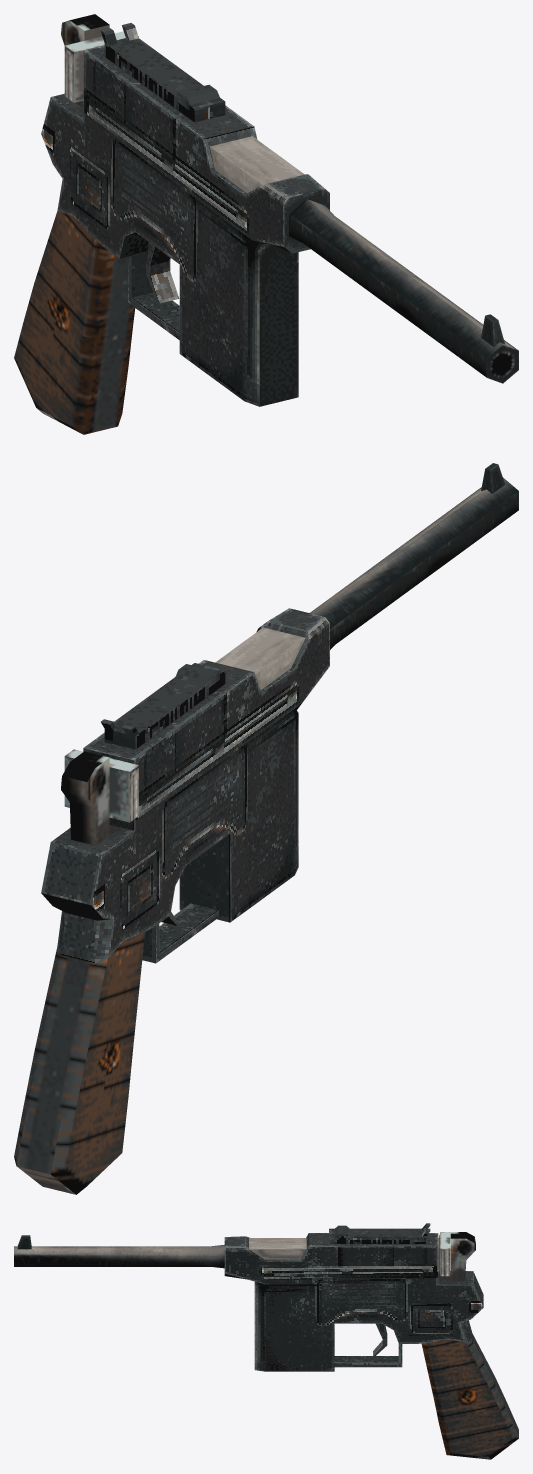
Rendered from mauser_c-96_psx_ps1_style.glb.
3 views of the same model, one above another, from view 1: azimuth 30°, elevation 25°; view 2: azimuth 150°, elevation 25°; view 3: azimuth 270°, elevation 25° (orthographic). The views are drawn at different scales.
Visible parts, largest first — view 1: PistolBody, Barrel, Cube, Bolt, Bracket, Cube.001, Hammer, Aim; view 2: PistolBody, Barrel, Bolt, Cube, Hammer, Bracket; view 3: PistolBody, Barrel, Bolt, Cube, Hammer, Bracket.
Boxes of the visible parts, x1,y1,x2,y2 form: PistolBody: (14, 45, 329, 434); Barrel: (289, 199, 518, 383); Cube: (100, 23, 225, 122); Bolt: (64, 31, 304, 193); Bracket: (128, 251, 179, 339); Cube.001: (146, 242, 179, 303); Hammer: (61, 14, 109, 108); Aim: (481, 314, 505, 346); PistolBody: (14, 608, 329, 1194); Barrel: (310, 477, 518, 649); Bolt: (64, 627, 305, 822); Cube: (101, 663, 225, 749); Hammer: (61, 751, 109, 845); Bracket: (142, 903, 218, 963); PistolBody: (224, 1233, 518, 1459); Barrel: (14, 1245, 224, 1268); Bolt: (249, 1232, 450, 1276); Cube: (329, 1223, 430, 1243); Hammer: (450, 1232, 475, 1280); Bracket: (334, 1344, 402, 1367).
Size of the model in its own units: 0.4001 by 2.49 by 4.99.
Materials: 4 (4 with a texture image).
